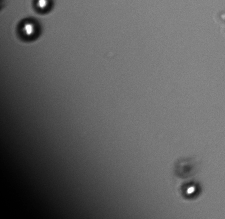Dead Cell: (175, 158, 198, 179)
Living Cell: (14, 15, 42, 43), (180, 180, 201, 200), (31, 1, 56, 15)
